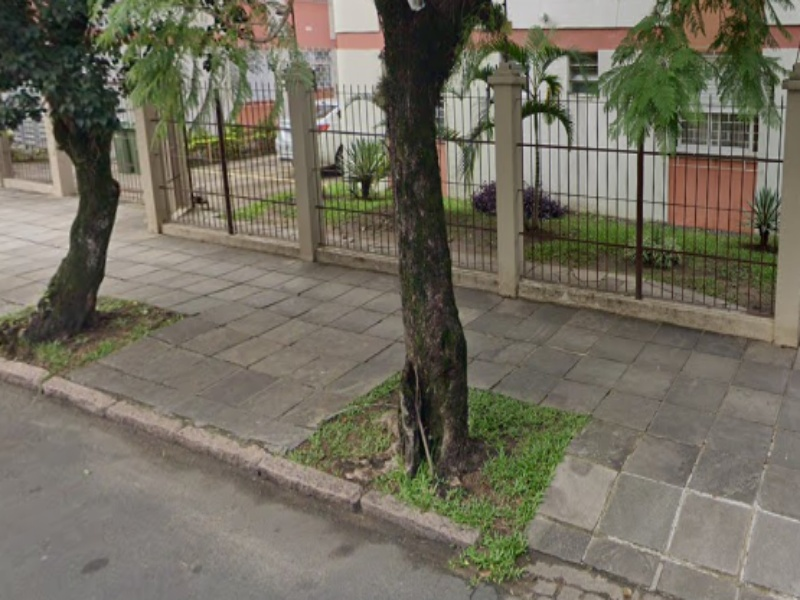v21: (1, 309, 472, 594)
